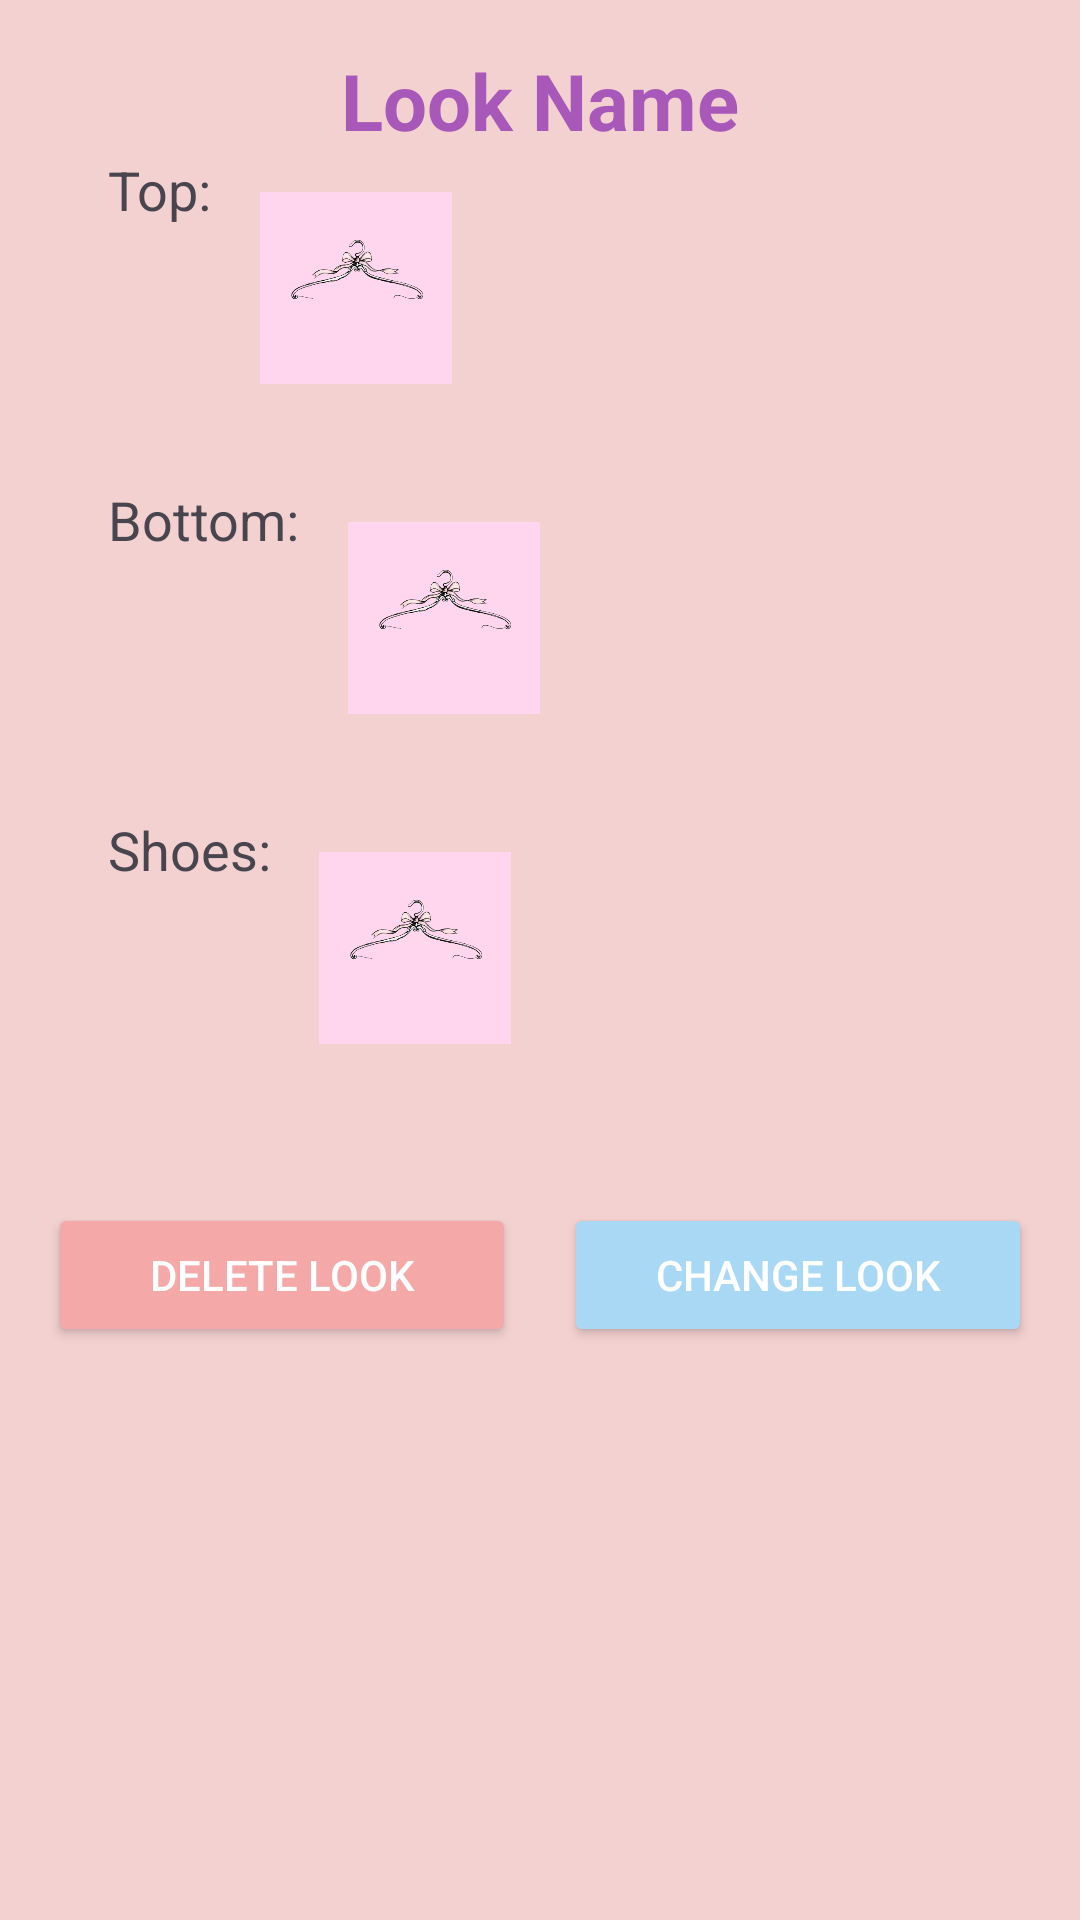

Point at icon controls on the screen. Image size 1080 x 1920, points as point (x, y).
hangerone: point (356, 288), point (444, 618), point (415, 948)
